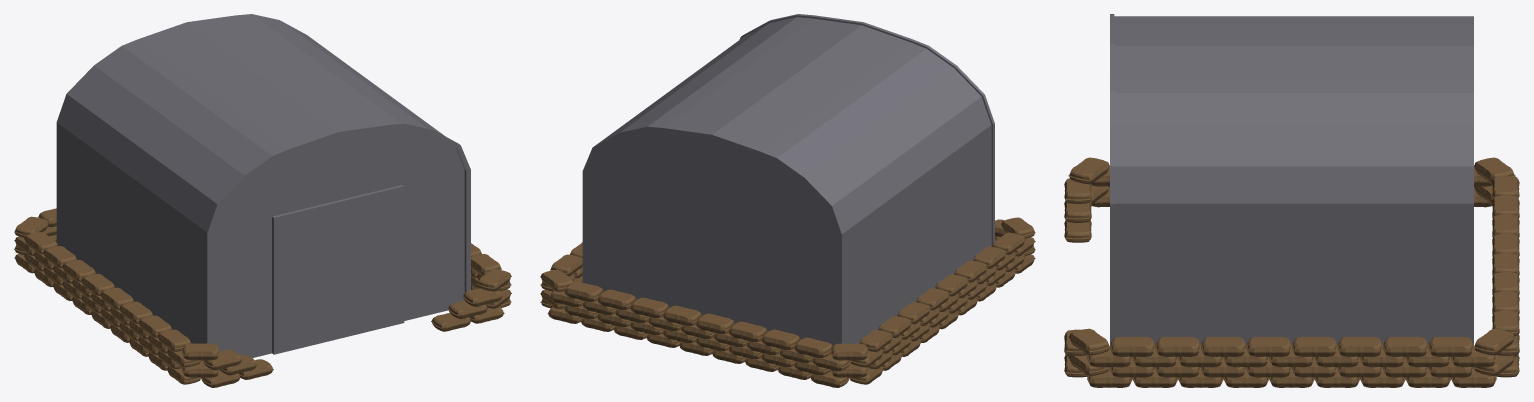
Rendered from supplyyardlvl0.dae.
3 renders of one model, left to right at view 1: azimuth 30°, elevation 25°; view 2: azimuth 150°, elevation 25°; view 3: azimuth 270°, elevation 25°, orthographic. The views are drawn at different scales.
Visible parts, largest first — view 1: Cylinder; view 2: Cylinder; view 3: Cylinder.
Part boxes in pixels (x1=…): Cylinder: x1=14, y1=14, x2=511, y2=387; Cylinder: x1=540, y1=14, x2=1035, y2=387; Cylinder: x1=1064, y1=14, x2=1519, y2=387.
Size of the model in its own units: 8 by 8 by 4.83.
